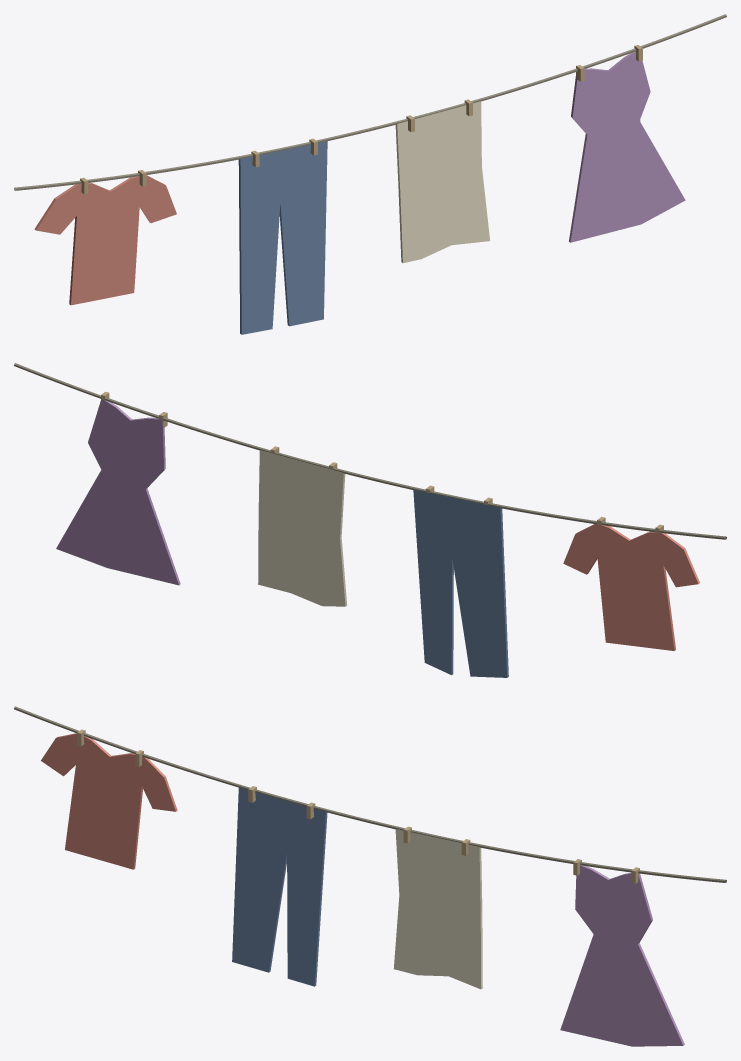
The model's file is courtyard-family-line.glb.
3 views of the same model, one above another, from view 1: azimuth 30°, elevation 25°; view 2: azimuth 150°, elevation 25°; view 3: azimuth 330°, elevation 25° (orthographic).
Visible parts, largest first — view 1: Cloth_Pants_1, Cloth_Dress_3, Cloth_Towel_2, Cloth_Tee_0, Fixed clothesline; view 2: Cloth_Pants_1, Cloth_Dress_3, Cloth_Towel_2, Cloth_Tee_0, Fixed clothesline; view 3: Cloth_Pants_1, Cloth_Dress_3, Cloth_Towel_2, Cloth_Tee_0, Fixed clothesline.
Part boxes in pixels (left/top/right/bottom): Cloth_Pants_1: left=238, top=141, right=327, bottom=334; Cloth_Dress_3: left=569, top=51, right=685, bottom=242; Cloth_Towel_2: left=395, top=101, right=489, bottom=263; Cloth_Tee_0: left=34, top=175, right=176, bottom=305; Fixed clothesline: left=14, top=14, right=726, bottom=190; Cloth_Pants_1: left=413, top=489, right=508, bottom=677; Cloth_Dress_3: left=56, top=398, right=180, bottom=585; Cloth_Towel_2: left=258, top=450, right=347, bottom=606; Cloth_Tee_0: left=563, top=523, right=699, bottom=650; Fixed clothesline: left=14, top=363, right=726, bottom=539; Cloth_Pants_1: left=232, top=787, right=327, bottom=986; Cloth_Dress_3: left=560, top=865, right=684, bottom=1046; Cloth_Towel_2: left=393, top=829, right=482, bottom=989; Cloth_Tee_0: left=41, top=733, right=177, bottom=869; Fixed clothesline: left=14, top=706, right=726, bottom=882.
Size of the model in its own units: 4.4 by 1.21 by 0.1089.
